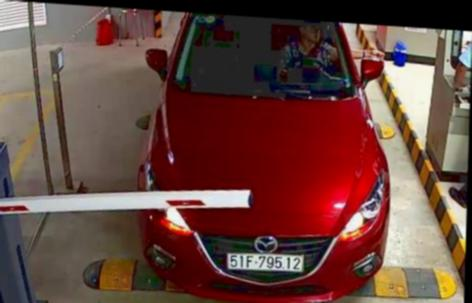License_Plate: (223, 249, 303, 275)
